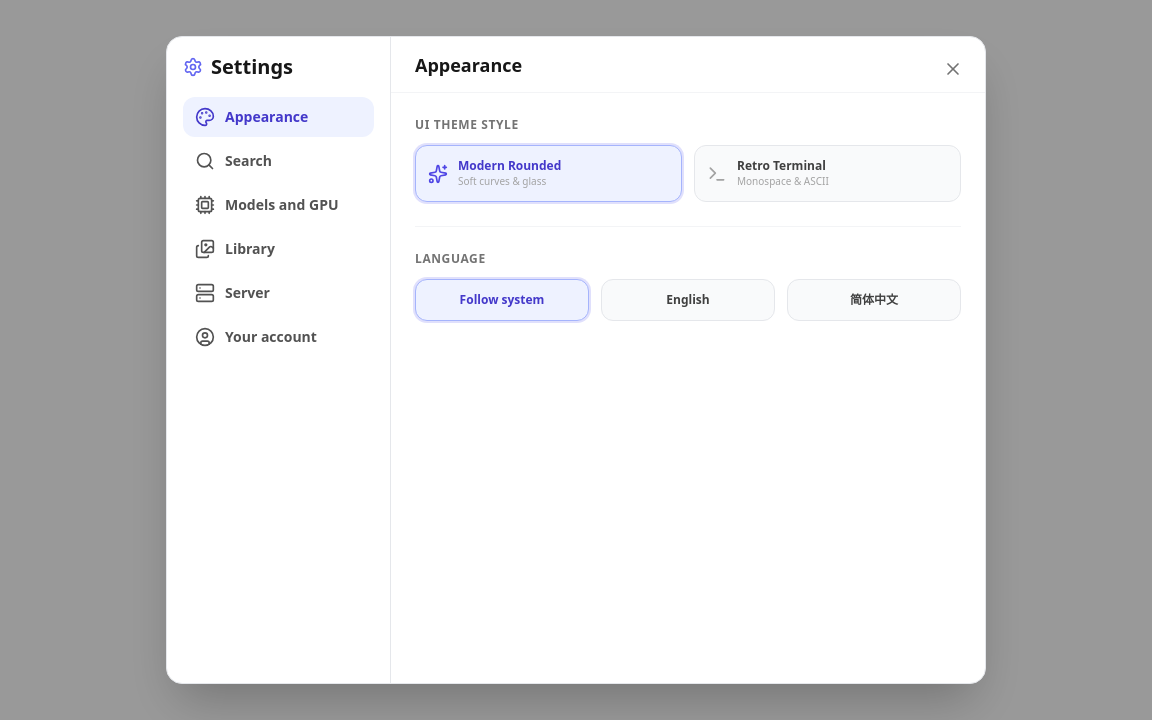
Test: SettingsModal › groups › lists "Your account" after the server group for a network owner, and shows the server group
This screenshot has width=1152, height=720.
What coordinates should you click on to do the following:
click the tab "Server"
I would click on:
 (278, 293)
Its box is [183,273,374,313].
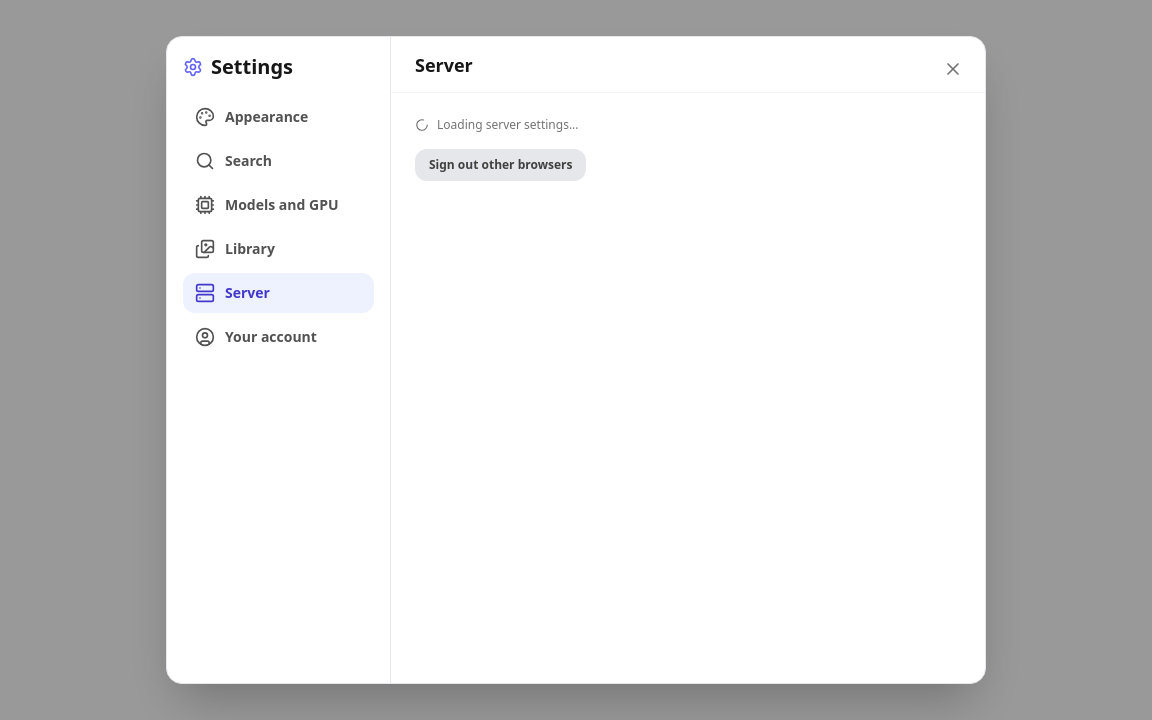
Now the heading "Server" is shown, box [415,50,473,78]
Now the text "Loading server settings..." is shown, box [415,116,579,133]
What coordinates should you click on to do the following:
click the tab "Your account"
I would click on:
 (278, 337)
Its box is [183,317,374,357].
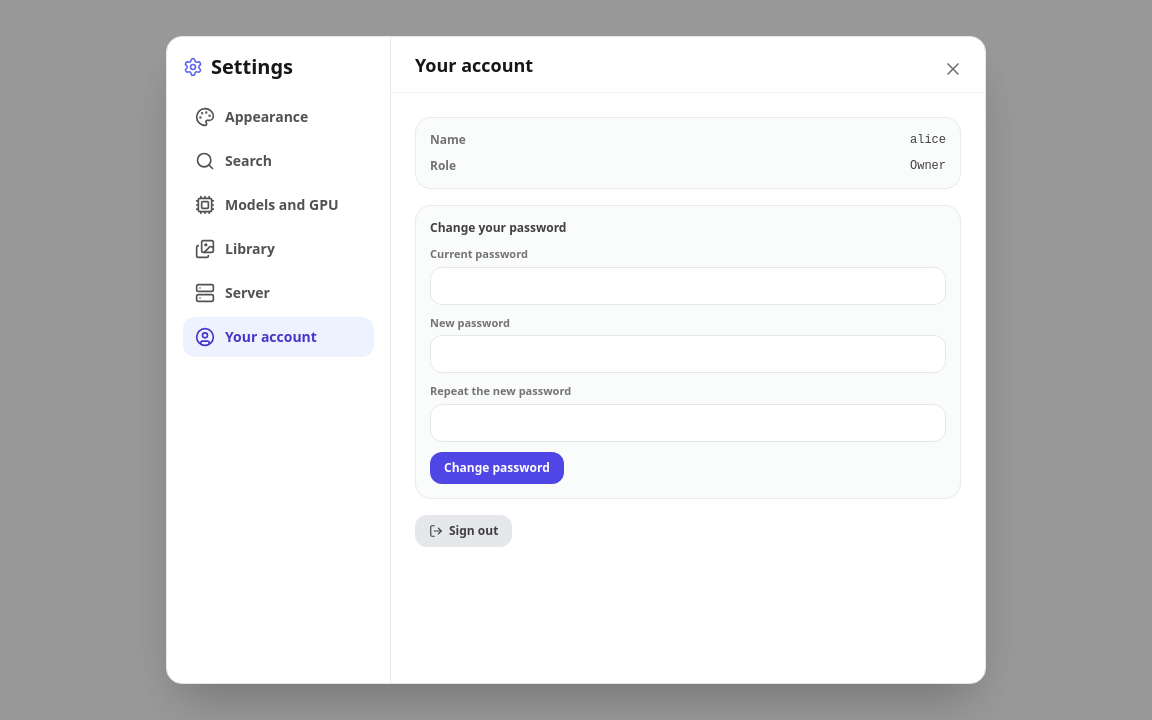
Now the heading "Your account" is shown, box [415,50,533,78]
Now the text "alice" is shown, box [910,132,946,148]
